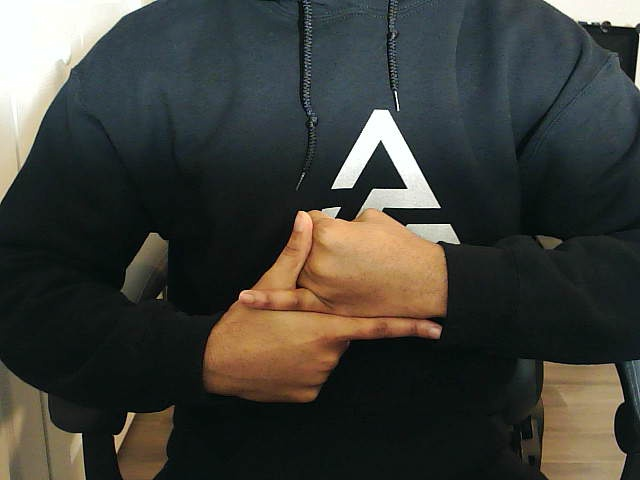Hare: (212, 208, 441, 402)
